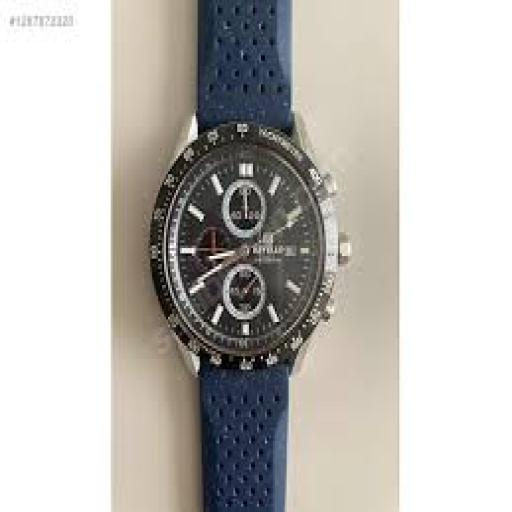KolSaati: (112, 0, 399, 512)
